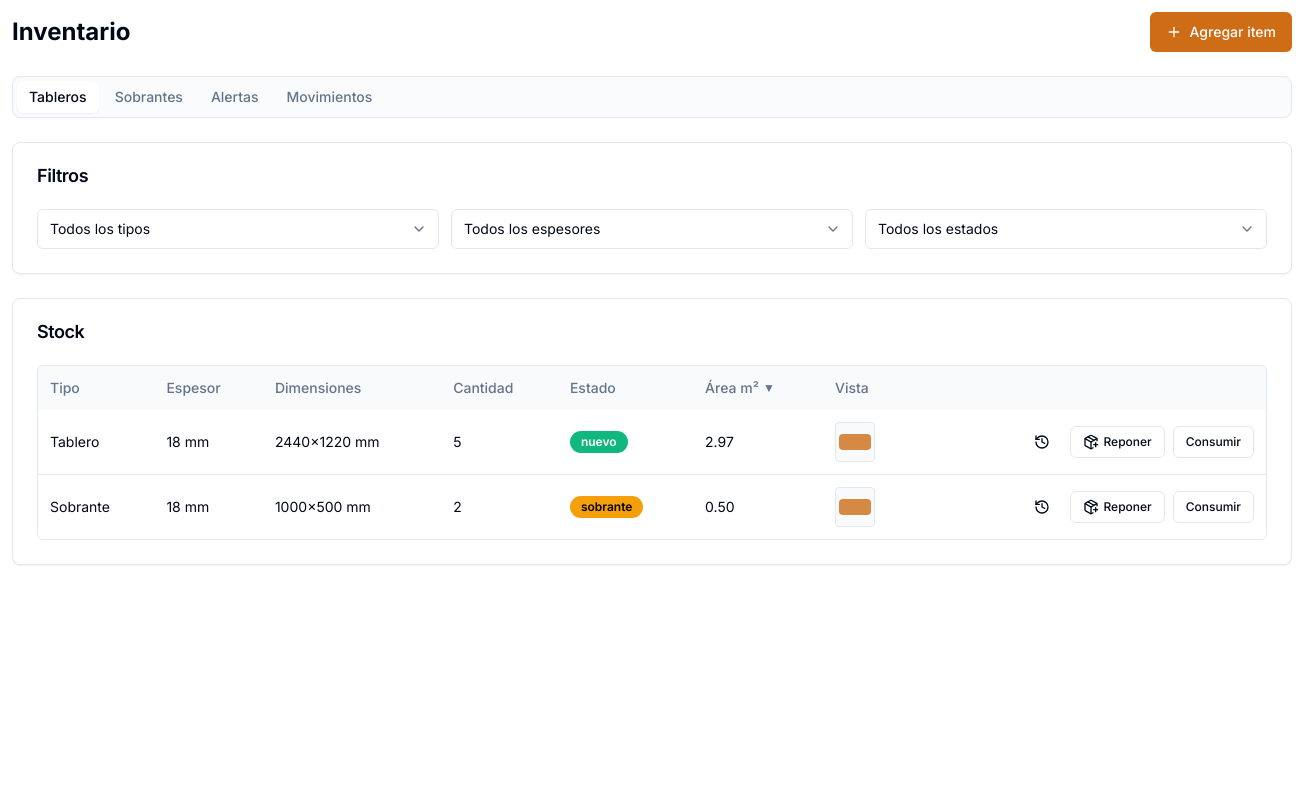
it: InventoryPage › shows movements for a selected item
Expected: the text "2440×1220 mm" is shown, 263,410 -> 441,474
Click the button named "Ver movimientos" in the row of "2440": {"x": 1042, "y": 442} 1022,426 -> 1062,458
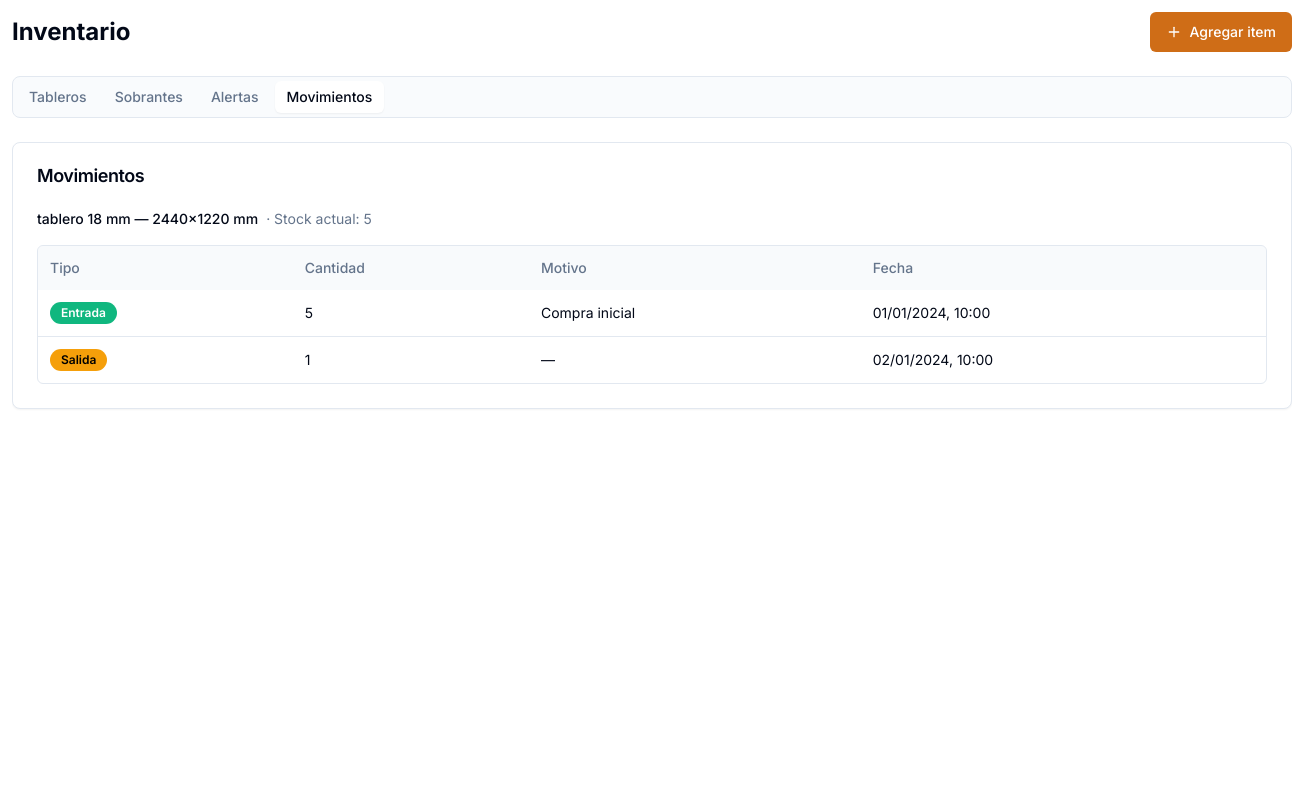
Expected: the text "Compra inicial" is shown, 529,290 -> 861,336
Expected: the text "salida" is shown, 50,349 -> 107,371
